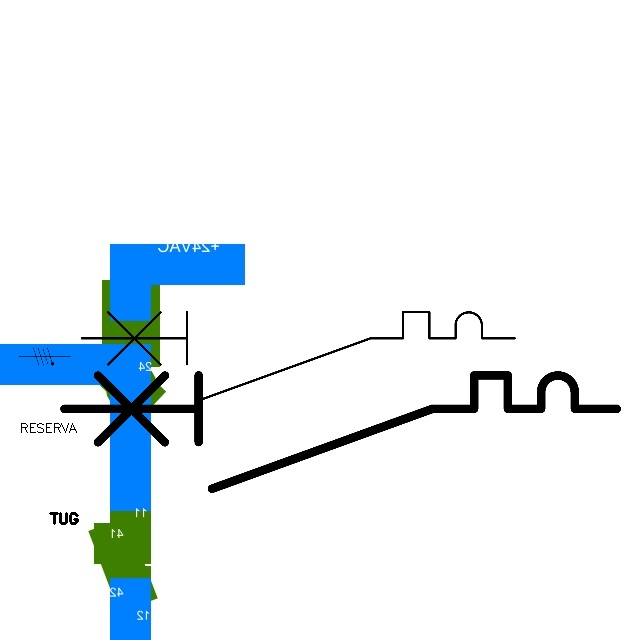interruptor_termomagnetico: (50, 361, 631, 503), (70, 301, 526, 412)
